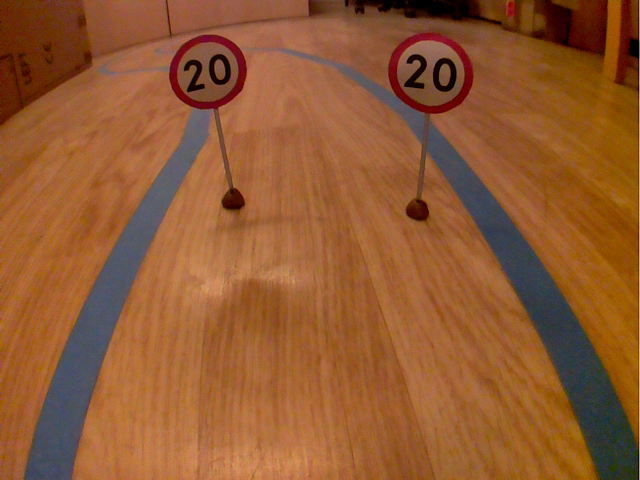Ograniczenie 20: (383, 28, 478, 118), (163, 31, 252, 113)
